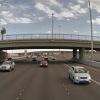Bridge: (1, 26, 95, 57)
